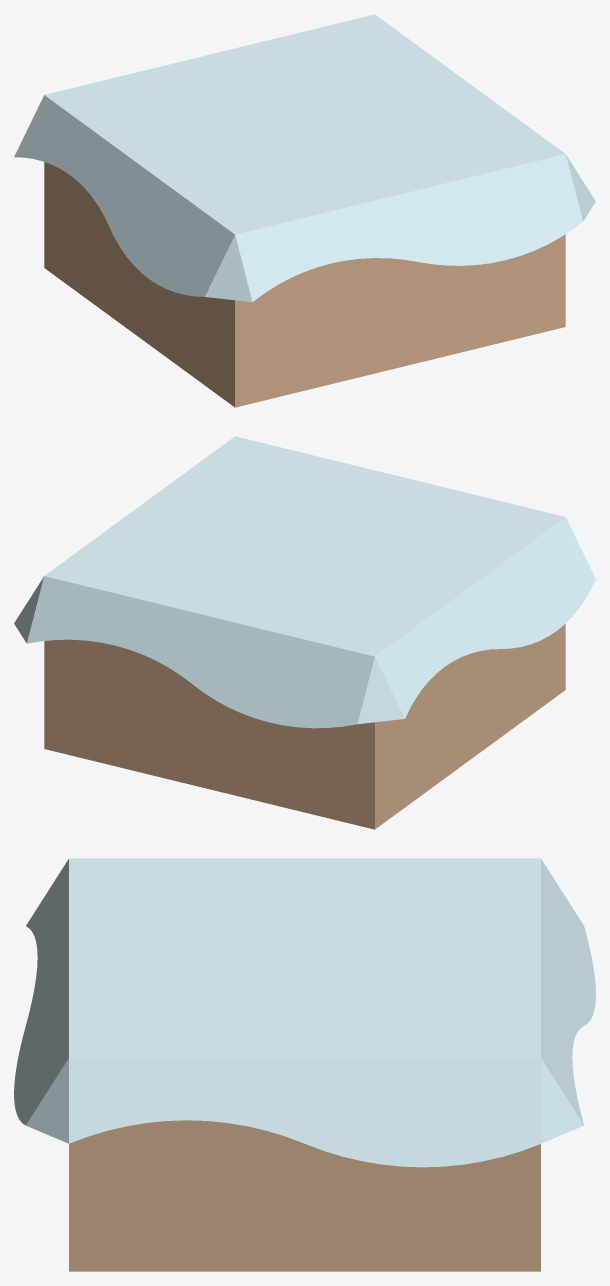
File: blockSnowHalf.glb
3 views of the same model, one above another, from view 1: azimuth 30°, elevation 25°; view 2: azimuth 150°, elevation 25°; view 3: azimuth 270°, elevation 25° (orthographic). The views are drawn at different scales.
Visible parts, largest first — view 1: blockSnowHalf; view 2: blockSnowHalf; view 3: blockSnowHalf.
Part boxes in pixels (<box>): blockSnowHalf: <box>14,14,595,407</box>; blockSnowHalf: <box>14,436,595,829</box>; blockSnowHalf: <box>14,858,595,1271</box>.
Bounding box in the file's own units: 1.23 × 0.5 × 1.23.
